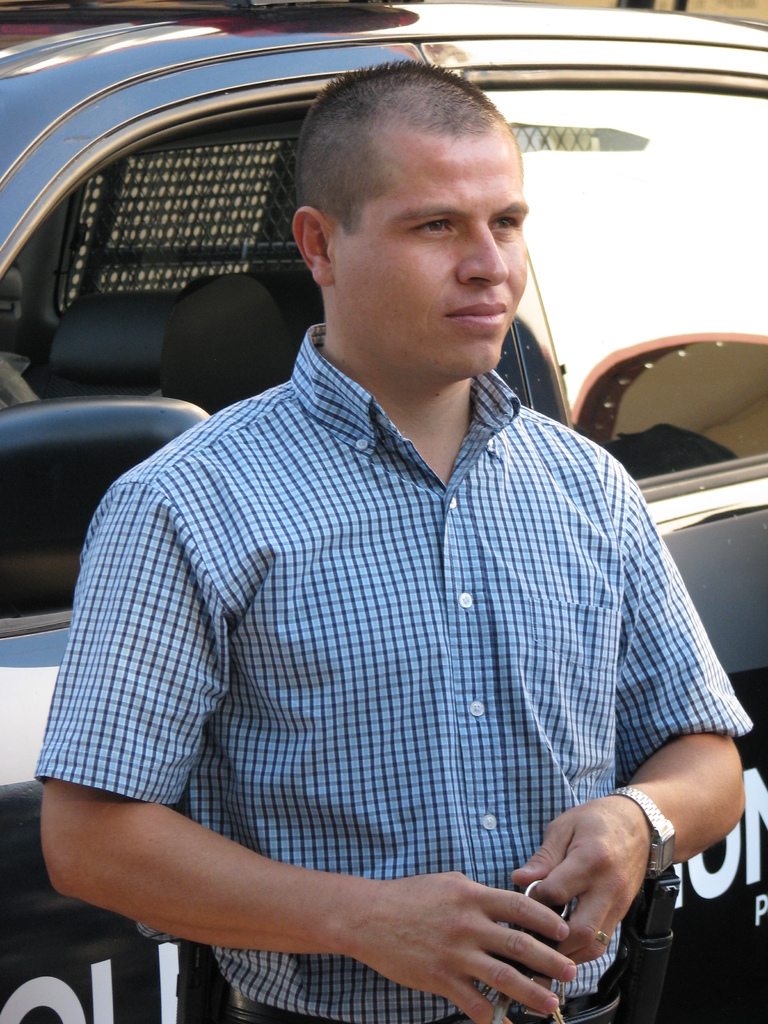cars: (0, 7, 767, 1023)
